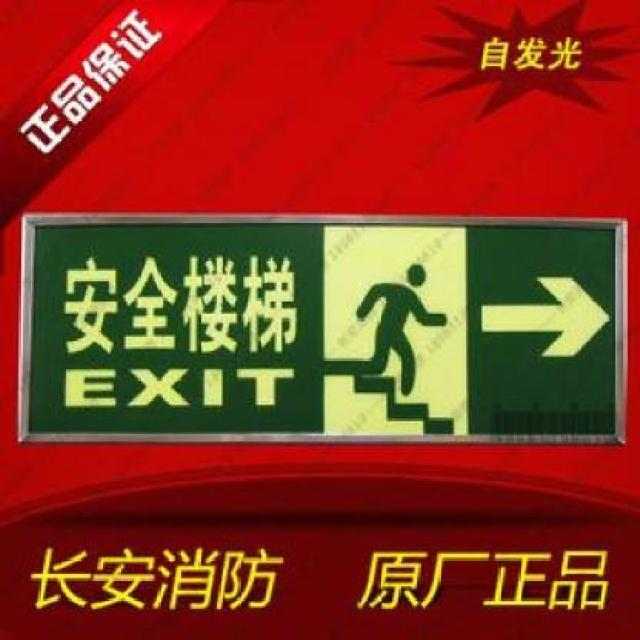exit_sign: (24, 214, 632, 443)
